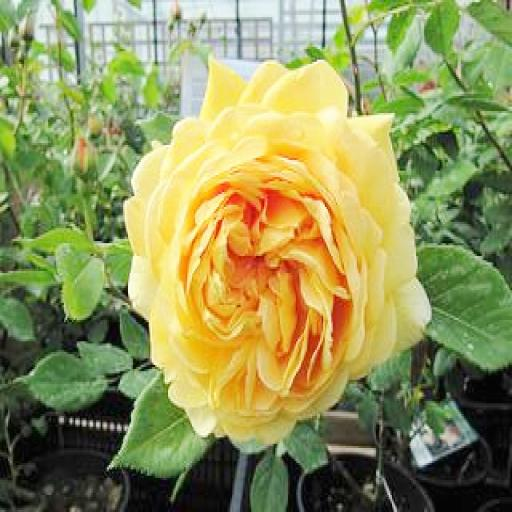rose: (130, 66, 416, 425)
